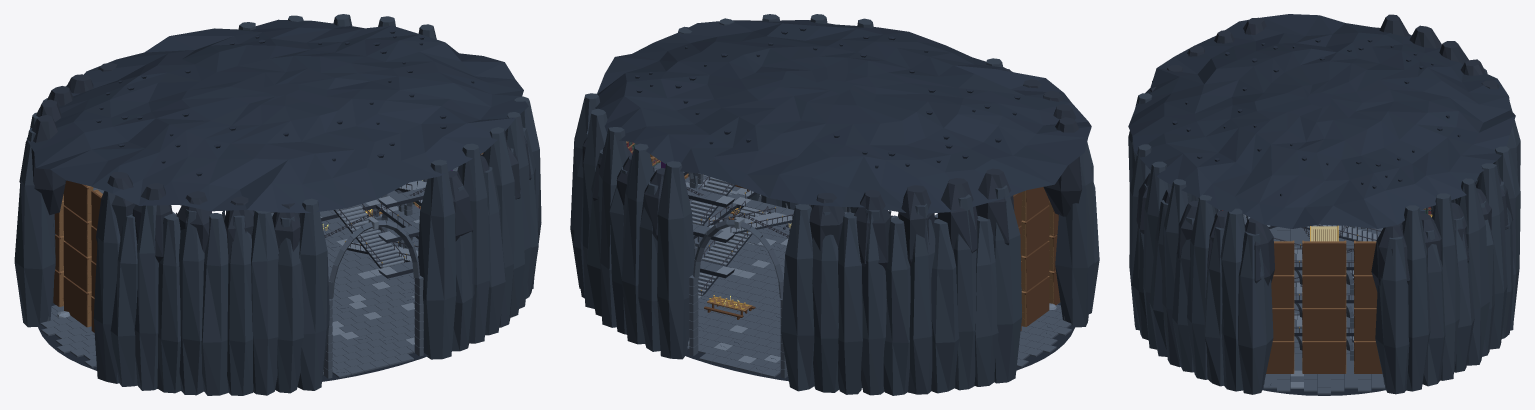
Rendered from cellar-room-05.glb.
3 views of the same model, side by side, from view 1: azimuth 30°, elevation 25°; view 2: azimuth 150°, elevation 25°; view 3: azimuth 270°, elevation 25° (orthographic). The views are drawn at different scales.
Parts seen in each view (by area): view 1: Cellar 5 ceiling, Cellar 5 rock, Cellar 5 stone_dark, Cellar 5 stone_floor, Cellar 5 wood, Cellar 5 stone, Cellar 5 stone_light, Cellar 5 wood_light, Cellar 5 stone_floor_light, Cellar 5 mortar, Cellar 5 iron; view 2: Cellar 5 rock, Cellar 5 ceiling, Cellar 5 stone_dark, Cellar 5 stone_floor, Cellar 5 wood, Cellar 5 stone, Cellar 5 stone_light, Cellar 5 wood_light, Cellar 5 iron, Cellar 5 mortar, Cellar 5 stone_floor_light; view 3: Cellar 5 ceiling, Cellar 5 rock, Cellar 5 wood, Cellar 5 stone_dark, Cellar 5 stone_floor, Cellar 5 stone, Cellar 5 wood_light, Cellar 5 stone_light, Cellar 5 mortar, Cellar 5 iron, Cellar 5 pages.
Boxes of the visible parts, x1,y1,x2,y2 form: Cellar 5 ceiling: [27, 19, 528, 212]; Cellar 5 rock: [14, 14, 541, 395]; Cellar 5 stone_dark: [19, 62, 531, 278]; Cellar 5 stone_floor: [40, 212, 418, 377]; Cellar 5 wood: [53, 180, 380, 332]; Cellar 5 stone: [47, 167, 458, 378]; Cellar 5 stone_light: [56, 180, 426, 317]; Cellar 5 wood_light: [59, 152, 483, 327]; Cellar 5 stone_floor_light: [332, 217, 414, 344]; Cellar 5 mortar: [37, 215, 428, 381]; Cellar 5 iron: [176, 179, 425, 267]; Cellar 5 rock: [570, 14, 1099, 395]; Cellar 5 ceiling: [595, 20, 1091, 213]; Cellar 5 stone_dark: [582, 68, 1082, 295]; Cellar 5 stone_floor: [687, 212, 1071, 377]; Cellar 5 wood: [704, 185, 1060, 330]; Cellar 5 stone: [654, 162, 1065, 378]; Cellar 5 stone_light: [685, 175, 1056, 345]; Cellar 5 wood_light: [626, 141, 1053, 326]; Cellar 5 iron: [652, 159, 811, 295]; Cellar 5 mortar: [684, 215, 1075, 387]; Cellar 5 stone_floor_light: [713, 229, 788, 363]; Cellar 5 ceiling: [1128, 14, 1515, 228]; Cellar 5 rock: [1128, 68, 1520, 394]; Cellar 5 wood: [1266, 229, 1382, 373]; Cellar 5 stone_dark: [1136, 14, 1513, 342]; Cellar 5 stone_floor: [1243, 216, 1402, 394]; Cellar 5 stone: [1218, 209, 1430, 384]; Cellar 5 wood_light: [1272, 208, 1431, 373]; Cellar 5 stone_light: [1243, 214, 1384, 384]; Cellar 5 mortar: [1262, 229, 1386, 395]; Cellar 5 iron: [1273, 224, 1381, 333]; Cellar 5 pages: [1311, 226, 1337, 241].
Bounding box in the file's own units: 94.73 × 42.25 × 75.59.
